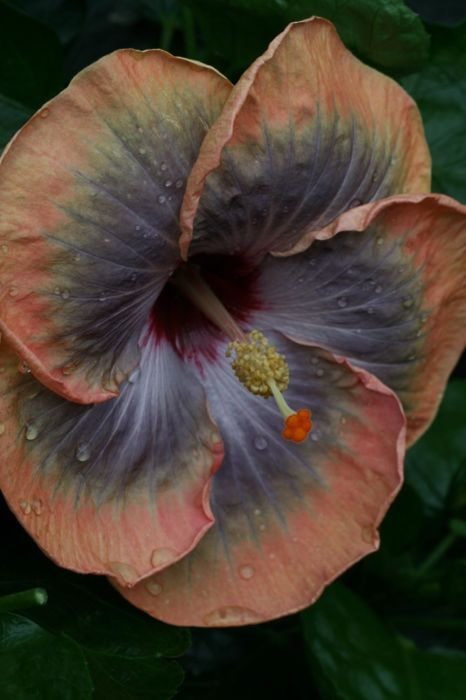Hibiscus: (1, 19, 463, 636)
